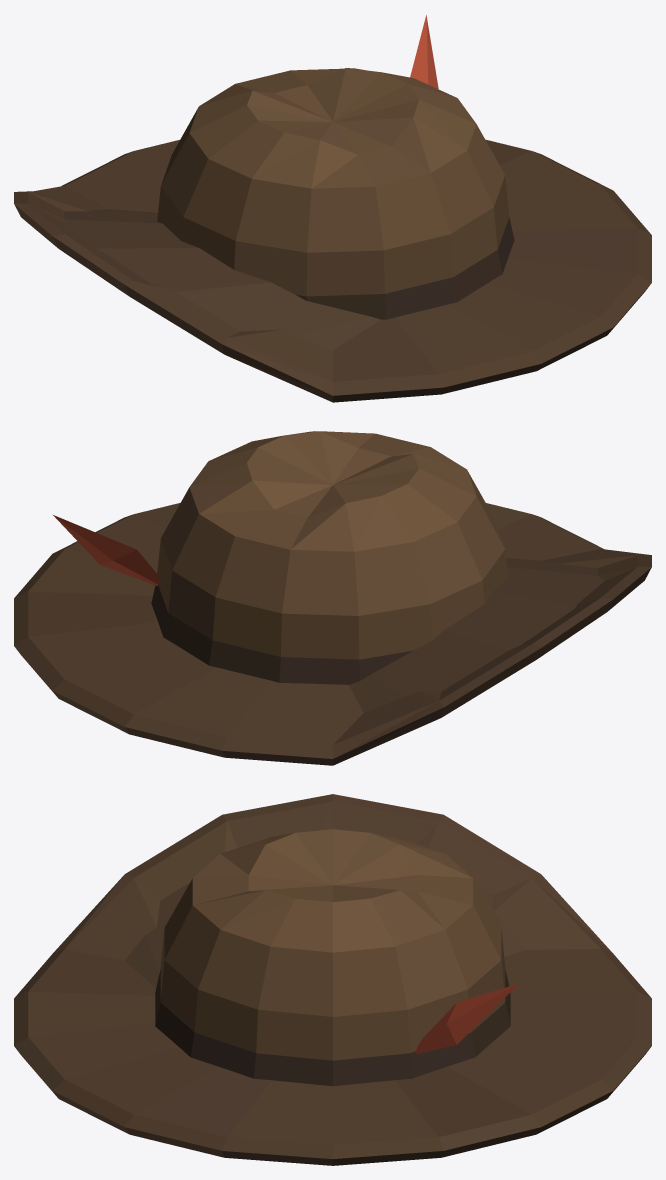
File: wear_explorer_hat.glb
3 views of the same model, one above another, from view 1: azimuth 30°, elevation 25°; view 2: azimuth 150°, elevation 25°; view 3: azimuth 270°, elevation 25° (orthographic).
Visible parts, largest first — view 1: wear_explorer_hat; view 2: wear_explorer_hat; view 3: wear_explorer_hat.
Part boxes in pixels (bbox=[...]): wear_explorer_hat: bbox=[14, 15, 651, 402]; wear_explorer_hat: bbox=[14, 431, 651, 765]; wear_explorer_hat: bbox=[14, 794, 651, 1165].
Size of the model in its own units: 0.9 by 0.255 by 0.8864.
